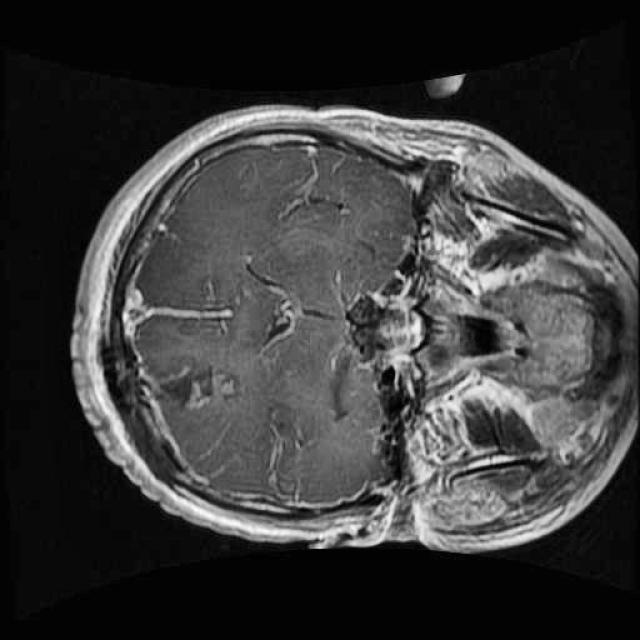Non-Tumor: (143, 336, 254, 425)
